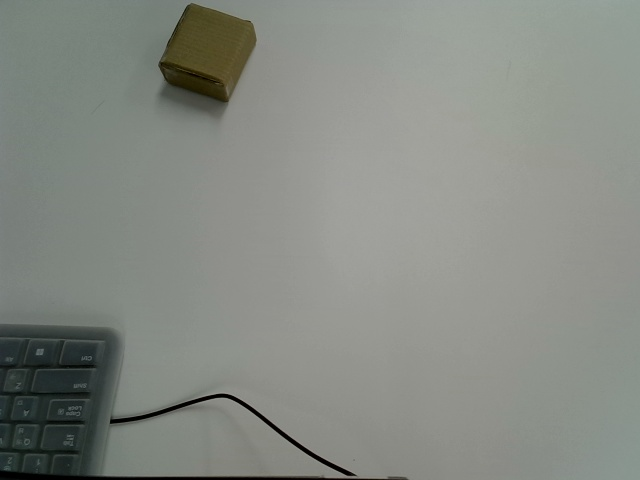normal: (159, 3, 257, 104)
